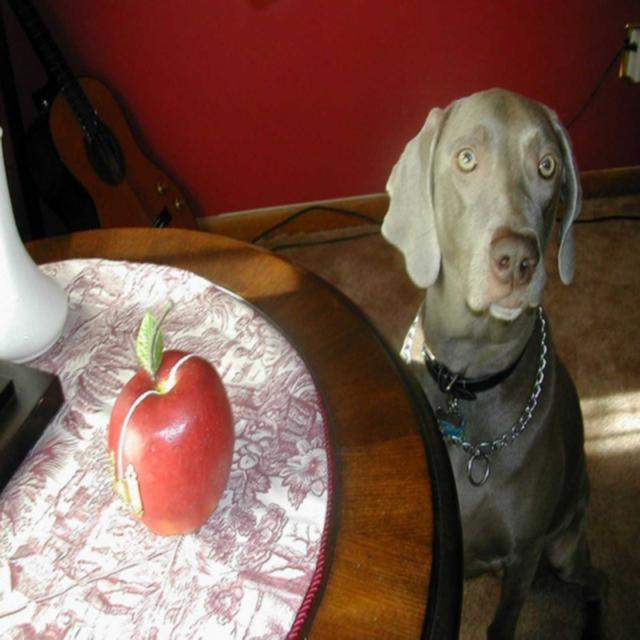dog: (378, 84, 615, 629)
